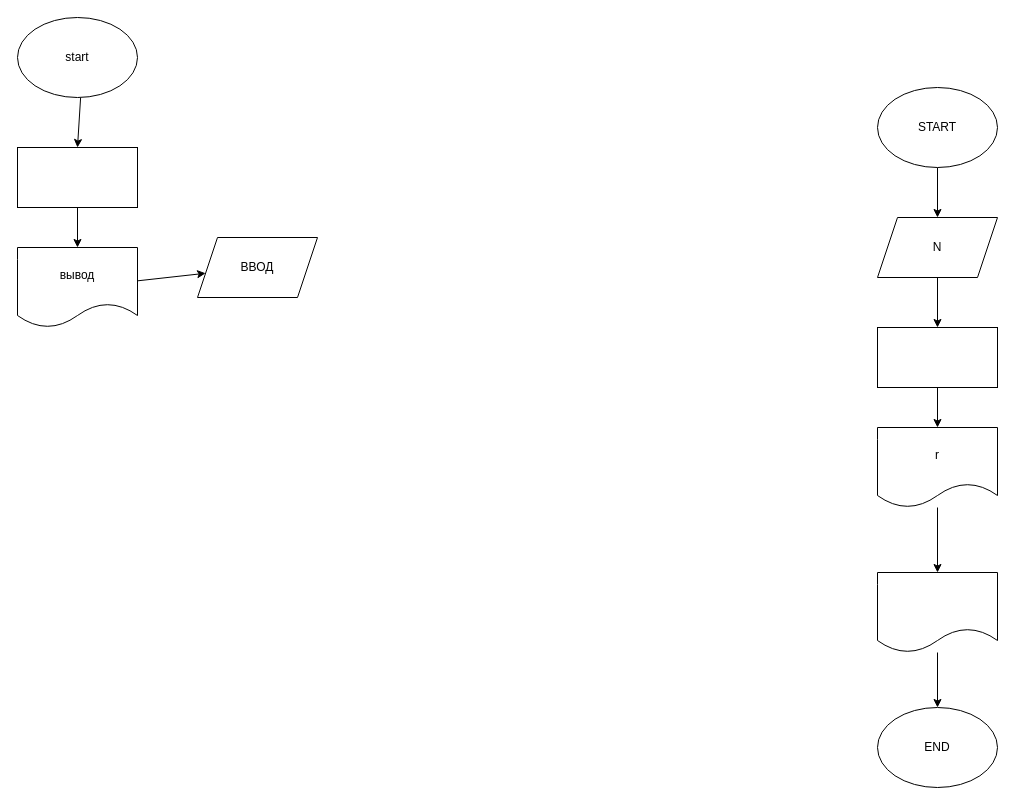
This 1015x805 diagram has some shape labels left out. The centre of each missing label's shape, as x and y in pixels:
count = 0: point 77,177
math.pow(r,2): point 937,612
r = random (1,N): point 937,357
